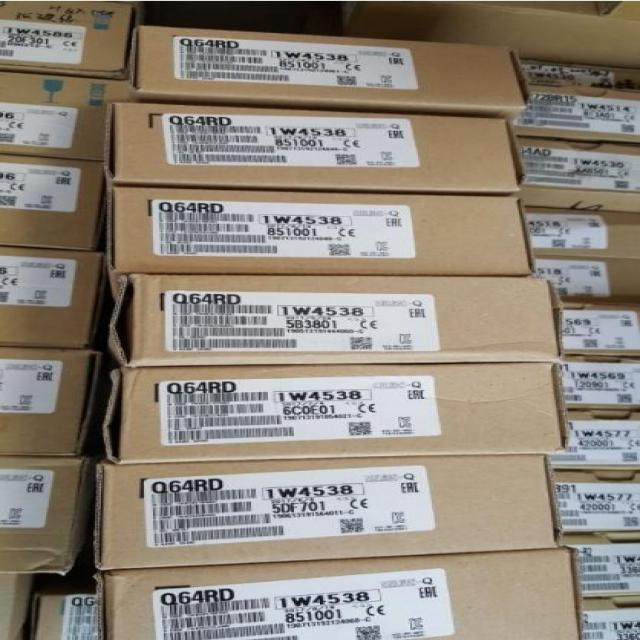box: (95, 358, 574, 465), (95, 466, 572, 572), (108, 272, 568, 370), (93, 552, 592, 640), (100, 100, 537, 192), (127, 30, 527, 120), (108, 190, 544, 272), (0, 71, 150, 165), (0, 152, 124, 258), (0, 246, 109, 356), (0, 350, 109, 457), (0, 447, 88, 571), (508, 130, 640, 210), (0, 0, 132, 77), (504, 80, 640, 142), (517, 205, 640, 262)
